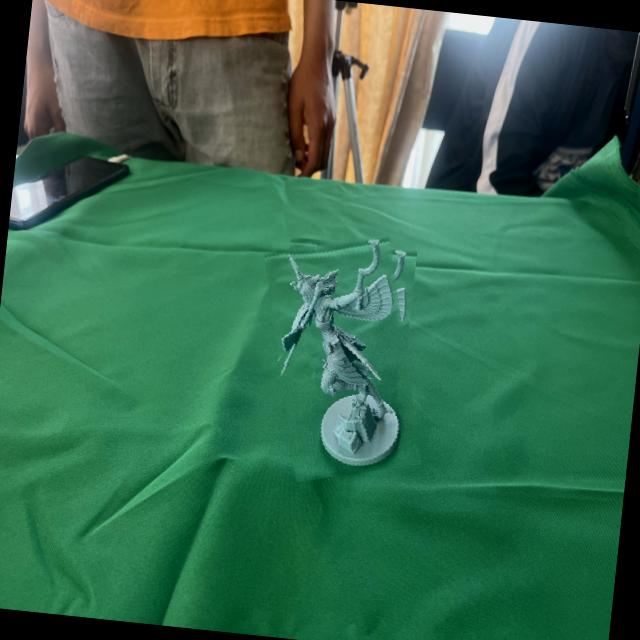isis: (252, 230, 430, 488)
